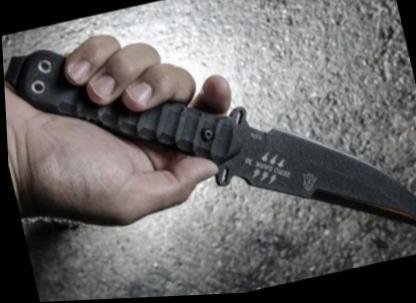knife: (154, 42, 415, 294)
